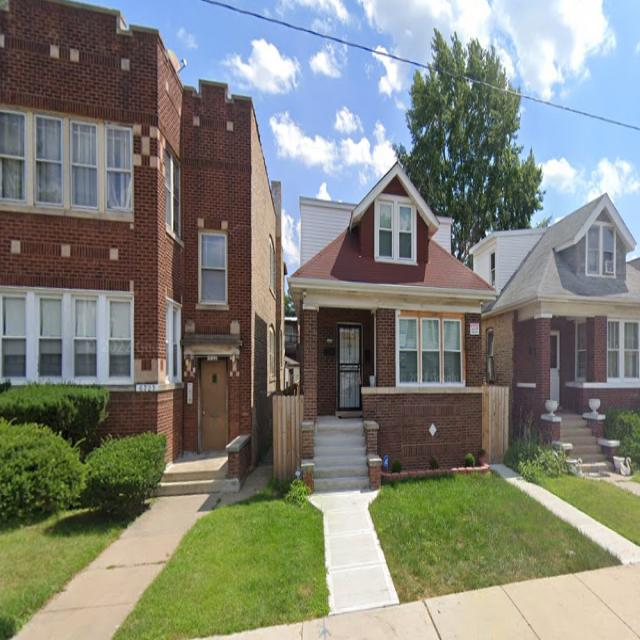House: (0, 0, 287, 500), (291, 162, 496, 490), (466, 196, 640, 474)
